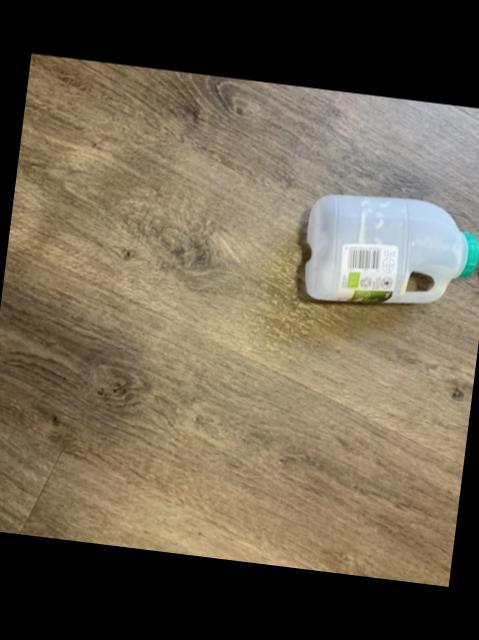plastic: (306, 196, 479, 304)
